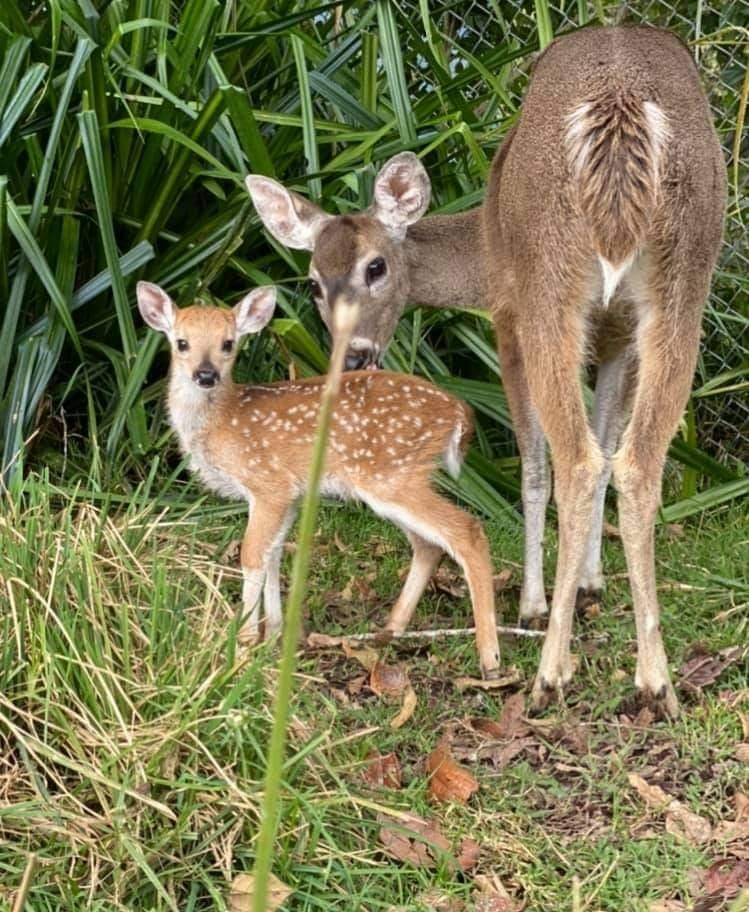Deer: (246, 25, 726, 712), (136, 281, 499, 676)
